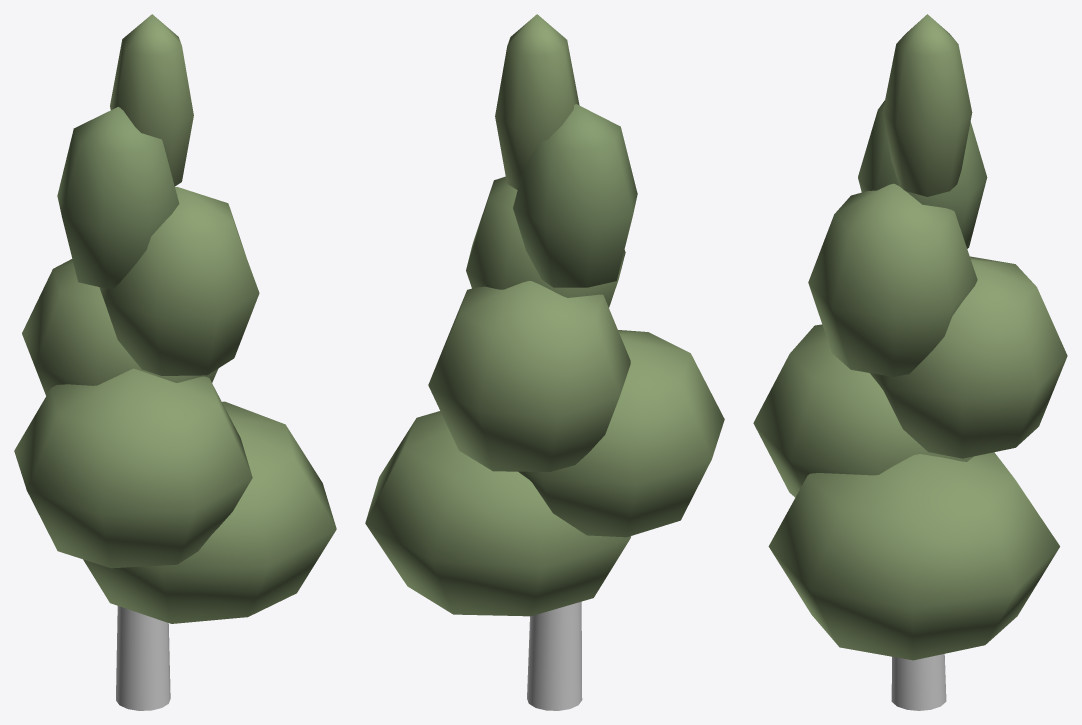
File: pine_v3_near.gltf
The picture shows the model from 3 angles, left to right: view 1: azimuth 30°, elevation 25°; view 2: azimuth 150°, elevation 25°; view 3: azimuth 270°, elevation 25°; orthographic projection.
Visible parts, largest first — view 1: foliage, bark; view 2: foliage, bark; view 3: foliage, bark.
Boxes of the visible parts, bbox=[...] form: foliage: bbox=[14, 14, 336, 623]; bark: bbox=[116, 606, 170, 710]; foliage: bbox=[365, 14, 724, 616]; bark: bbox=[527, 601, 582, 710]; foliage: bbox=[753, 14, 1067, 660]; bark: bbox=[891, 654, 946, 710].
Size of the model in its own units: 2.9 by 6.01 by 2.47.
